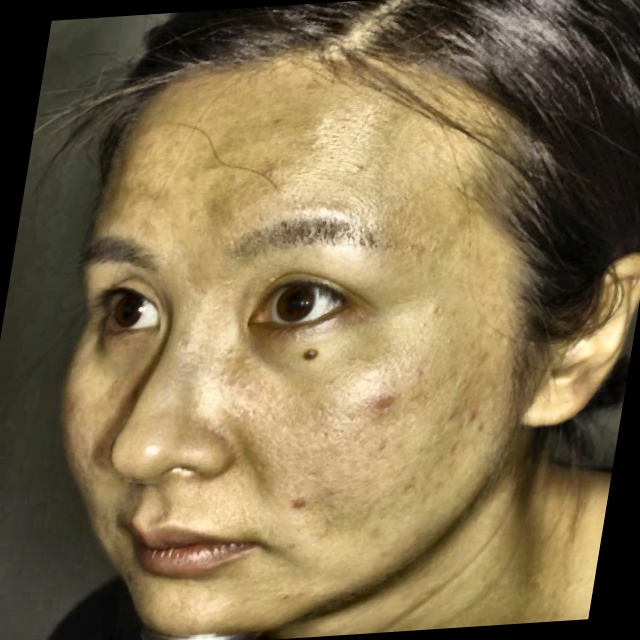comedone: (453, 401, 489, 430), (365, 391, 399, 416), (277, 495, 312, 515)
